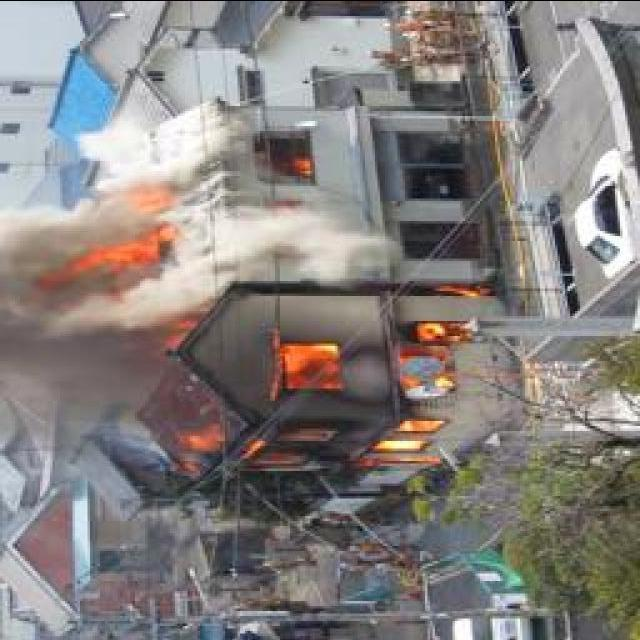Fire: (175, 312, 494, 468), (74, 182, 170, 280), (289, 152, 311, 177)
